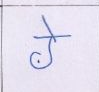e_matra: (40, 15, 56, 35)
